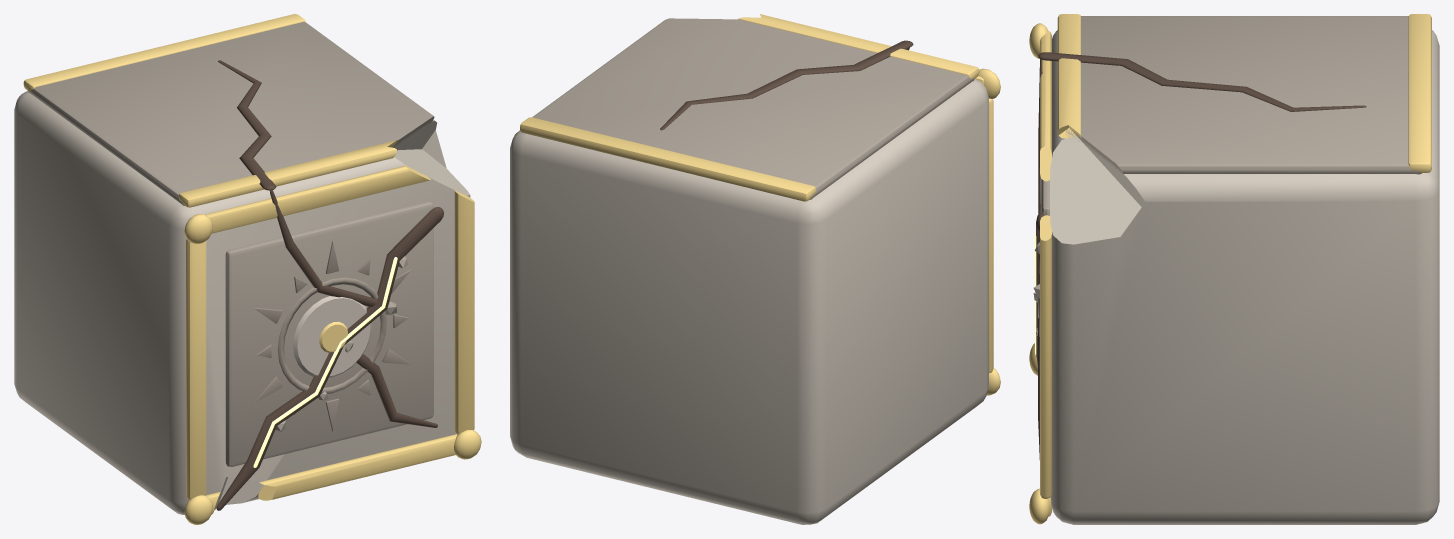
File: block_cracked.glb
3 views of the same model, side by side, from view 1: azimuth 30°, elevation 25°; view 2: azimuth 150°, elevation 25°; view 3: azimuth 270°, elevation 25° (orthographic). The views are drawn at different scales.
Parts seen in each view (by area): view 1: block_cracked; view 2: block_cracked; view 3: block_cracked.
Part boxes in pixels (bbox=[...]): block_cracked: bbox=[14, 14, 481, 524]; block_cracked: bbox=[510, 14, 1000, 524]; block_cracked: bbox=[1029, 14, 1439, 524].
Size of the model in its own units: 0.98 by 1.01 by 1.03.
